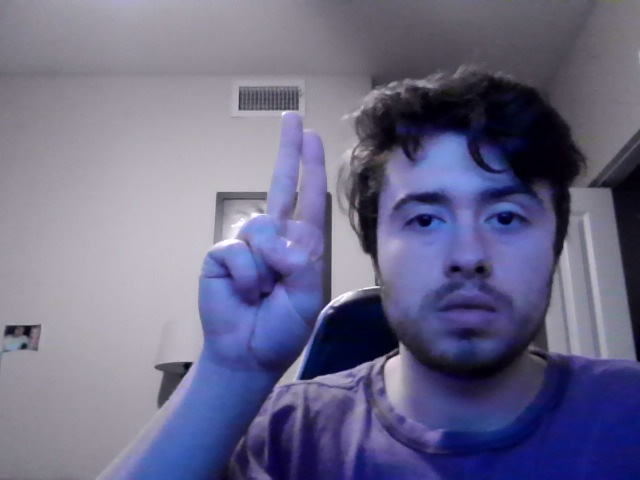u: (197, 111, 327, 396)
